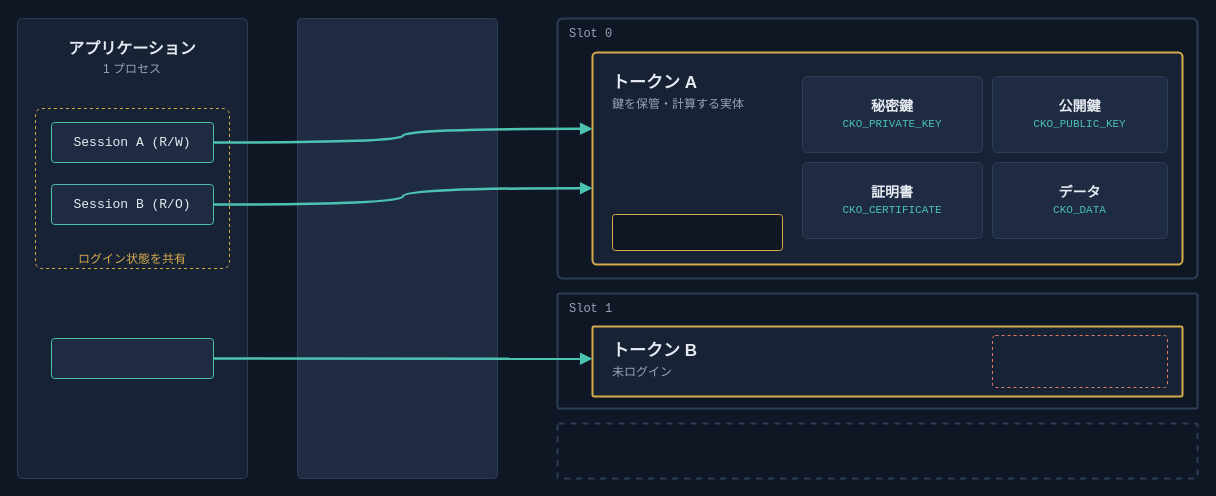
Some shapes in this 1216 by 496 pixel diagram are drawn without their labels. The shapes that lost their labels are listed below. From the top down, each one's centre as x and y in pixels, then its label:
At point 397,248: "Cryptoki ライブラリ libsofthsm2.so 等 C_* 関数の実体".
At point 697,232: "ログイン中：User".
At point 132,358: "Session C (R/O)".
At point 1080,361: "秘密鍵 検索しても返らない".
At point 877,450: "Slot 2 トークンなし（差し込み口だけ）".
